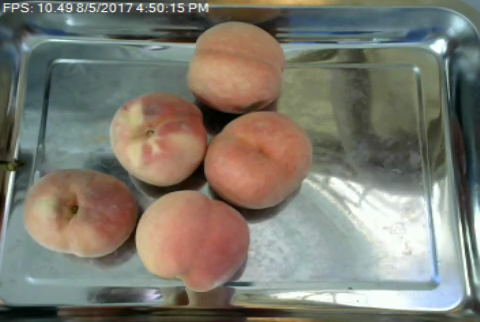Peach: (134, 189, 247, 289), (206, 110, 311, 209), (22, 168, 138, 257), (109, 90, 207, 186), (188, 21, 284, 112)
